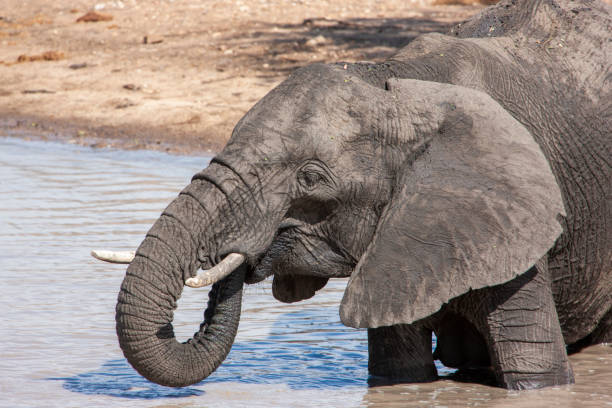africanelephant: (101, 61, 470, 360)
